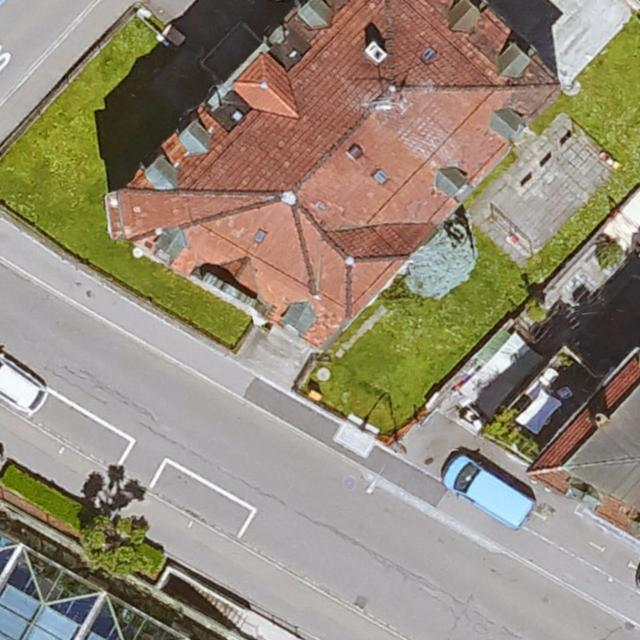tree: (86, 515, 146, 577)
